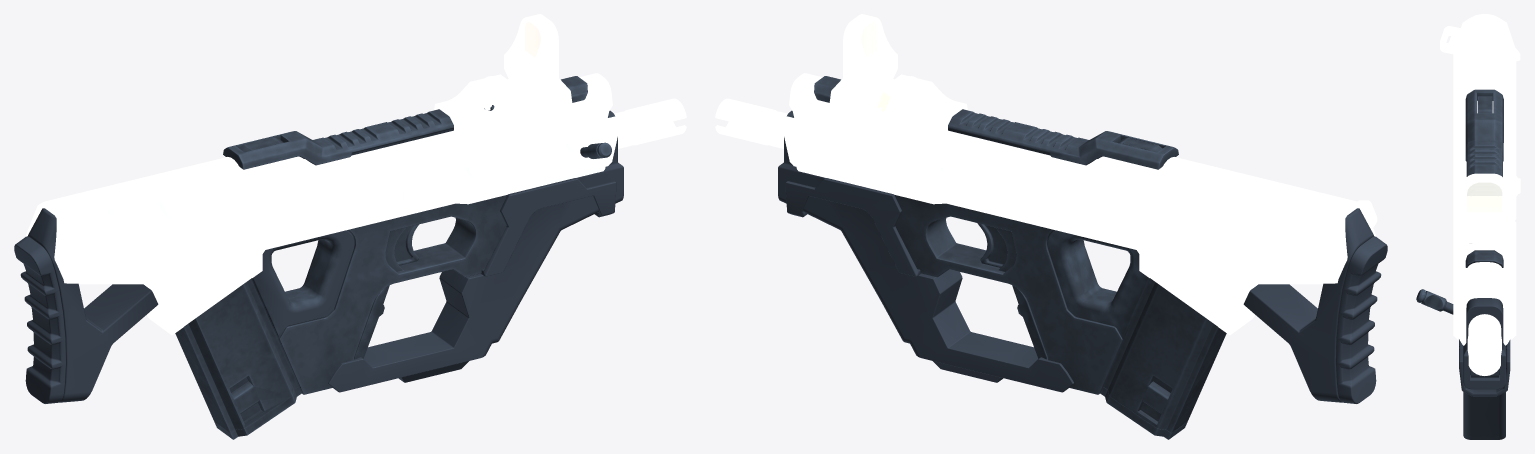
Rendered from Mid_Hornet.glb.
The picture shows the model from 3 angles, left to right: view 1: azimuth 30°, elevation 25°; view 2: azimuth 150°, elevation 25°; view 3: azimuth 270°, elevation 25°; orthographic projection. The views are drawn at different scales.
Visible parts, largest first — view 1: Cube.052_hi_Body_0, Cube.050_hi_Stock_0, Cube.048_hi_Handle_0, Cube.054_hi_Clip_0, Cube.057_hi_Scope_0; view 2: Cube.052_hi_Body_0, Cube.050_hi_Stock_0, Cube.048_hi_Handle_0, Cube.054_hi_Clip_0, Cube.057_hi_Scope_0; view 3: Cube.052_hi_Body_0, Cube.050_hi_Stock_0, Cube.048_hi_Handle_0, Cube.057_hi_Scope_0.
Boxes of the visible parts, bbox=[...] form: Cube.052_hi_Body_0: bbox=[25, 73, 686, 335]; Cube.050_hi_Stock_0: bbox=[14, 110, 623, 403]; Cube.048_hi_Handle_0: bbox=[223, 76, 611, 394]; Cube.054_hi_Clip_0: bbox=[175, 279, 301, 439]; Cube.057_hi_Scope_0: bbox=[434, 14, 572, 137]; Cube.052_hi_Body_0: bbox=[715, 73, 1377, 335]; Cube.050_hi_Stock_0: bbox=[778, 110, 1387, 403]; Cube.048_hi_Handle_0: bbox=[814, 76, 1178, 394]; Cube.054_hi_Clip_0: bbox=[1100, 279, 1226, 439]; Cube.057_hi_Scope_0: bbox=[829, 14, 967, 137]; Cube.052_hi_Body_0: bbox=[1440, 14, 1520, 375]; Cube.050_hi_Stock_0: bbox=[1459, 298, 1510, 439]; Cube.048_hi_Handle_0: bbox=[1416, 89, 1503, 314]; Cube.057_hi_Scope_0: bbox=[1459, 173, 1510, 265].
Size of the model in its own units: 4.45 by 2.19 by 0.6575.
Materials: 5 (5 with a texture image).
